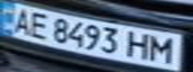3: (100, 25, 124, 56)
4: (66, 19, 84, 48)
8: (48, 16, 72, 45)
9: (81, 21, 103, 52)
A: (3, 6, 36, 35)
E: (24, 10, 54, 39)
H: (124, 29, 154, 61)
M: (145, 34, 181, 65)
